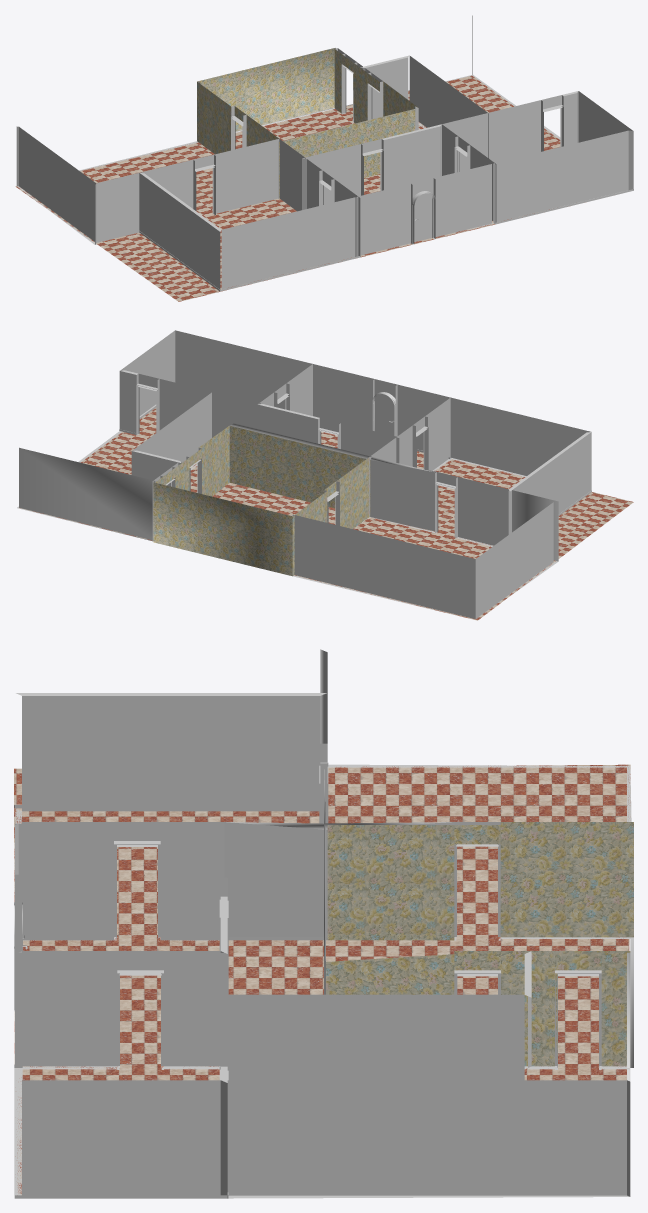
File: house03.glb.gltf
3 views of the same model, one above another, from view 1: azimuth 30°, elevation 25°; view 2: azimuth 150°, elevation 25°; view 3: azimuth 270°, elevation 25° (orthographic). The views are drawn at different scales.
Parts seen in each view (by area): view 1: house03, sol03; view 2: house03, sol03; view 3: house03, sol03.
Part boxes in pixels (x1=…): house03: x1=16, y1=15, x2=633, y2=291; sol03: x1=15, y1=75, x2=560, y2=301; house03: x1=17, y1=330, x2=591, y2=618; sol03: x1=20, y1=407, x2=633, y2=620; house03: x1=14, y1=649, x2=633, y2=1198; sol03: x1=14, y1=764, x2=630, y2=1195.
Bounding box in the file's own units: 202 × 26.22 × 122.
2 materials, 2 textured.
